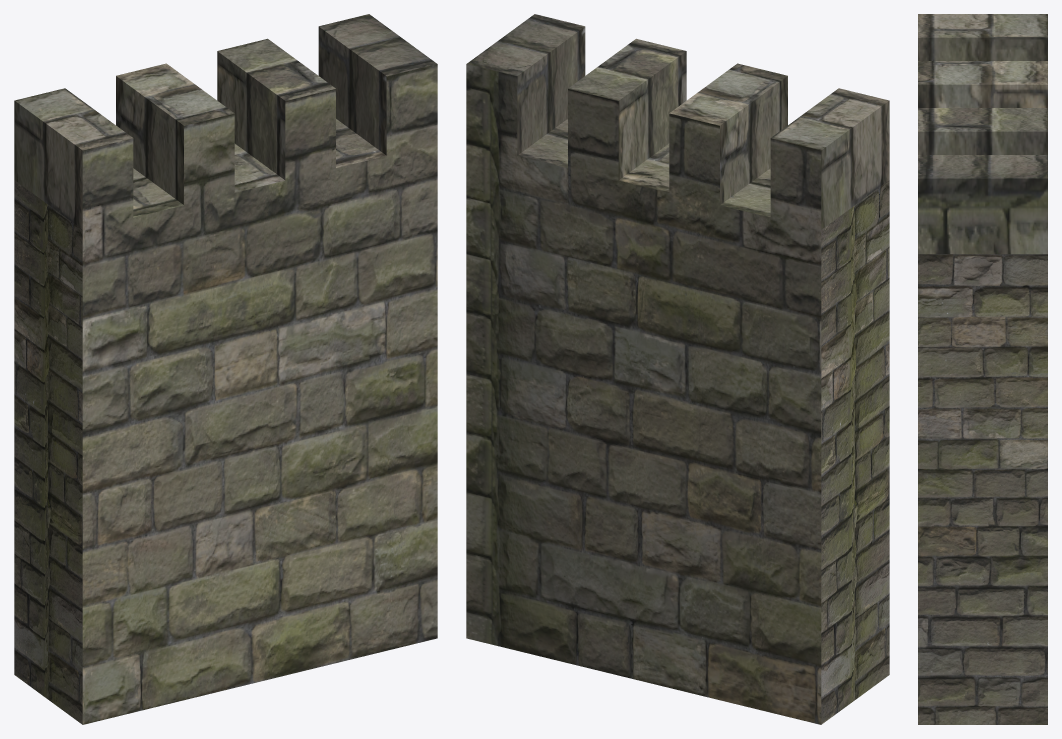
Rendered from wall.fbx.
3 renders of one model, left to right at view 1: azimuth 30°, elevation 25°; view 2: azimuth 150°, elevation 25°; view 3: azimuth 270°, elevation 25°, orthographic. The views are drawn at different scales.
Visible parts, largest first — view 1: wall; view 2: wall; view 3: wall.
Boxes of the visible parts, x1=… form: wall: x1=14, y1=14, x2=437, y2=724; wall: x1=466, y1=14, x2=889, y2=724; wall: x1=918, y1=14, x2=1047, y2=724.
Size of the model in its own units: 2.25 by 3.48 by 0.75.
